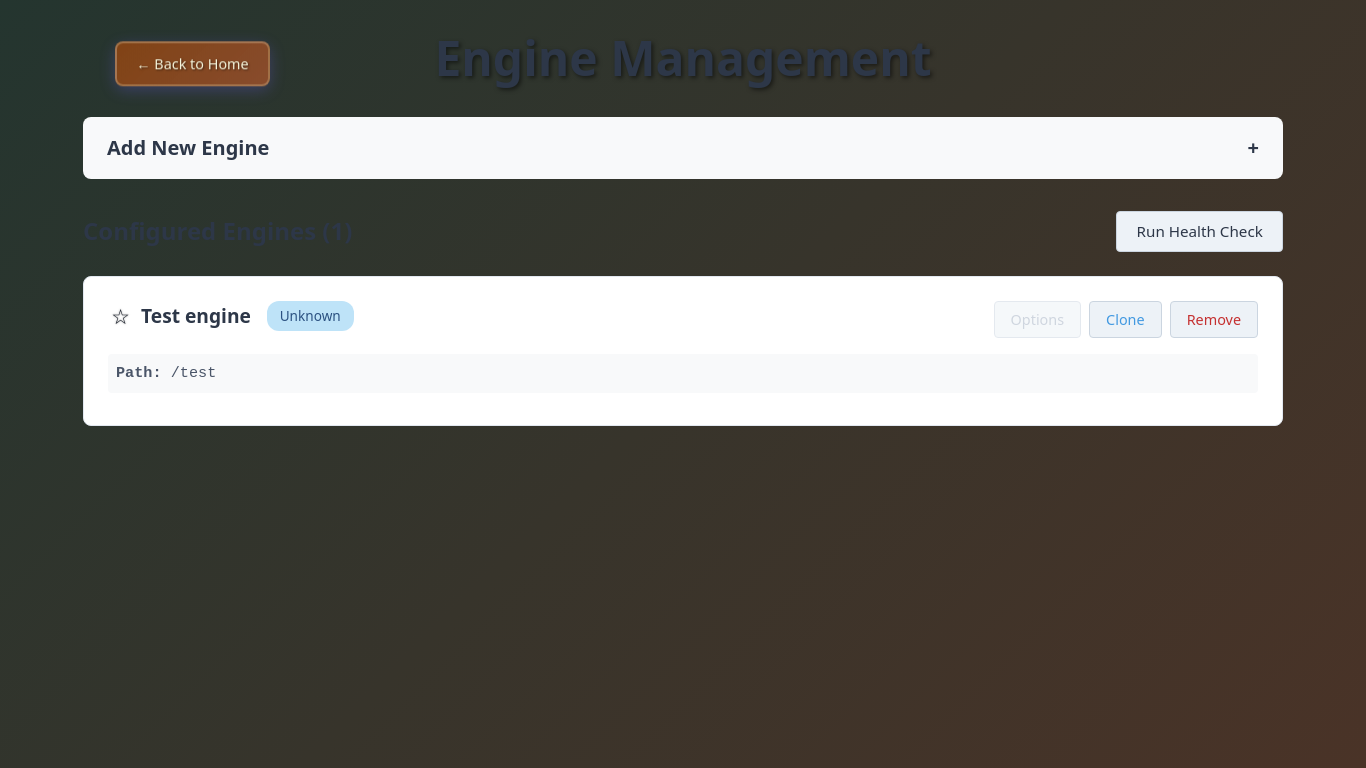
Test: Engine management › keeps Add Engine disabled until both fields are filled
Expected: the heading "☆ Test engine" is shown, [108,302,251,330]
Click the button "Add New Engine +" at point(188, 147), box [83,117,1283,179]
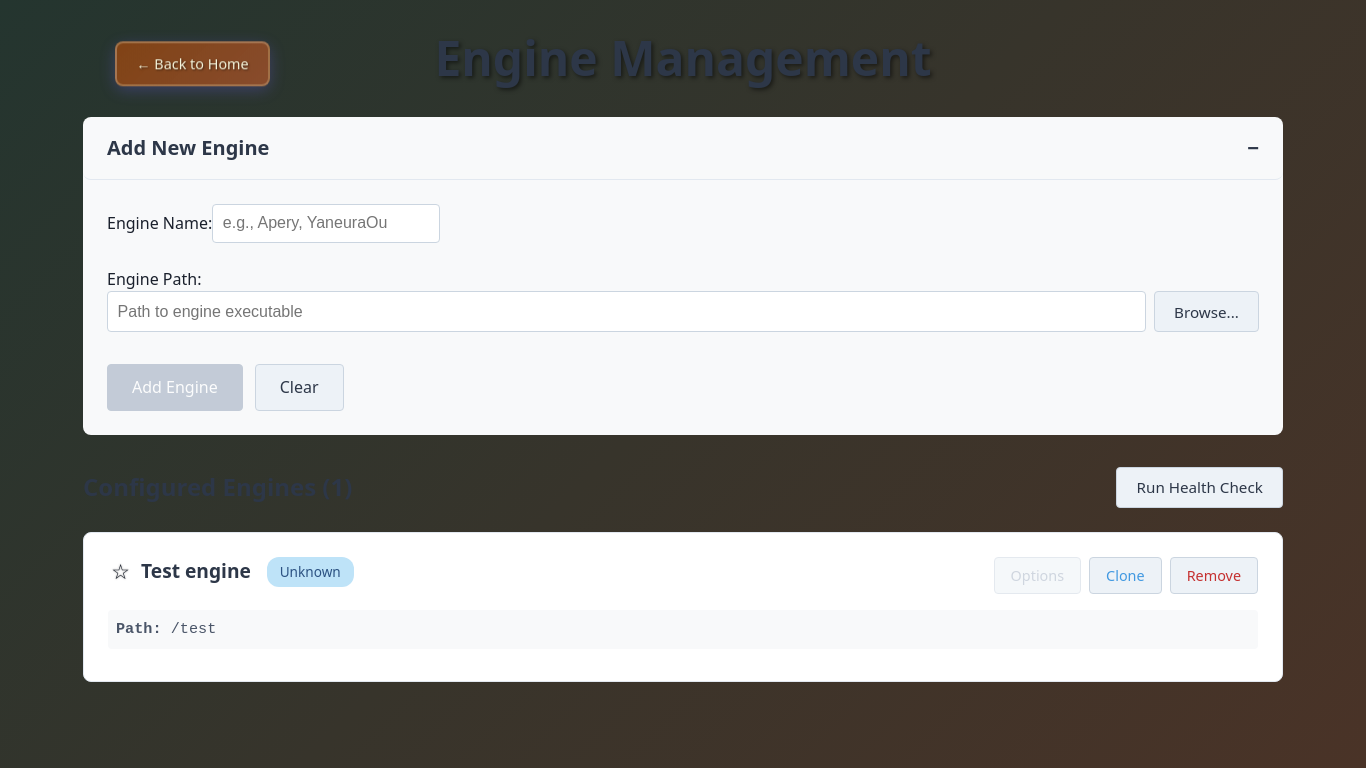
Result: the button "Add Engine" is disabled at [107,364,243,411]
Type "New engine" into the field with placeholder "e.g., Apery, YaneuraOu" at point(326, 223), box [212,204,440,243]
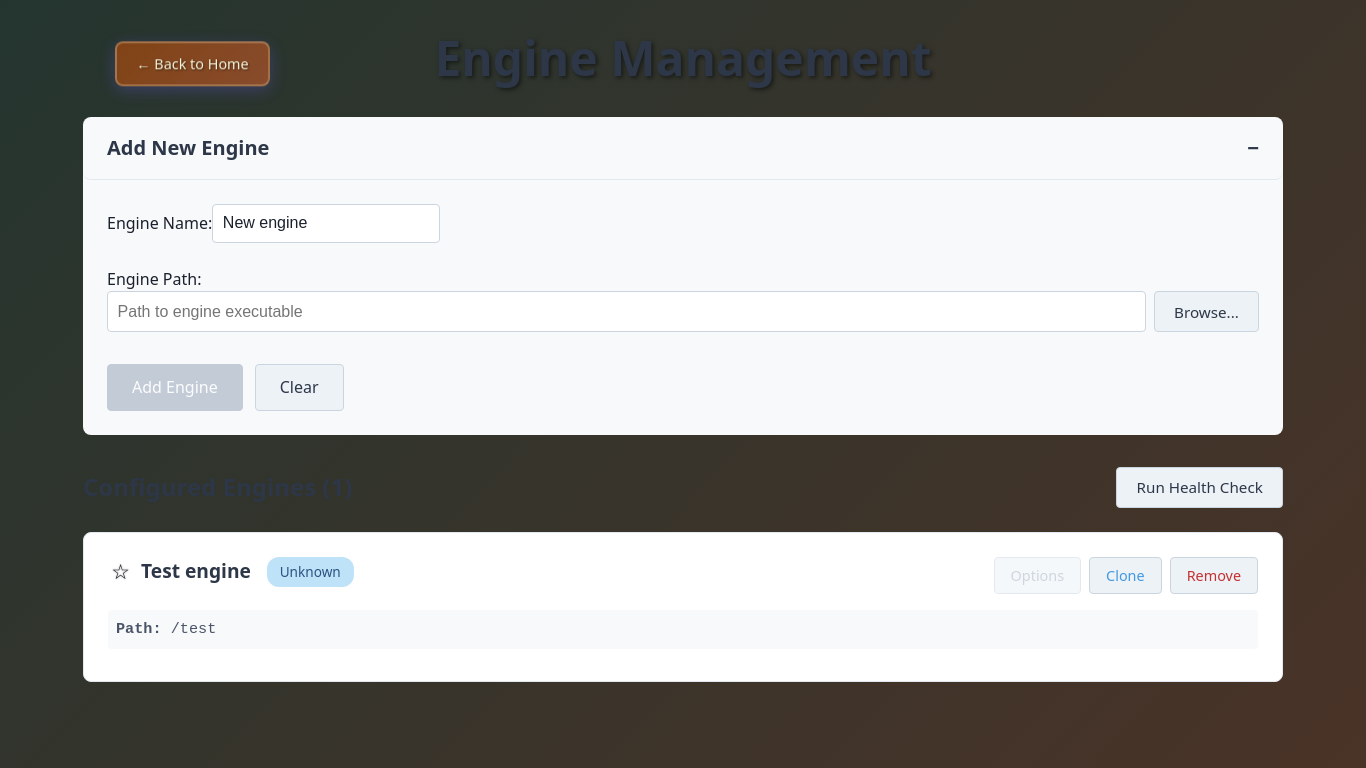
Result: the button "Add Engine" is disabled at [107,364,243,411]
Type "/new" into the field with placeholder "Path to engine executable" at point(626, 312), box [107,291,1146,332]
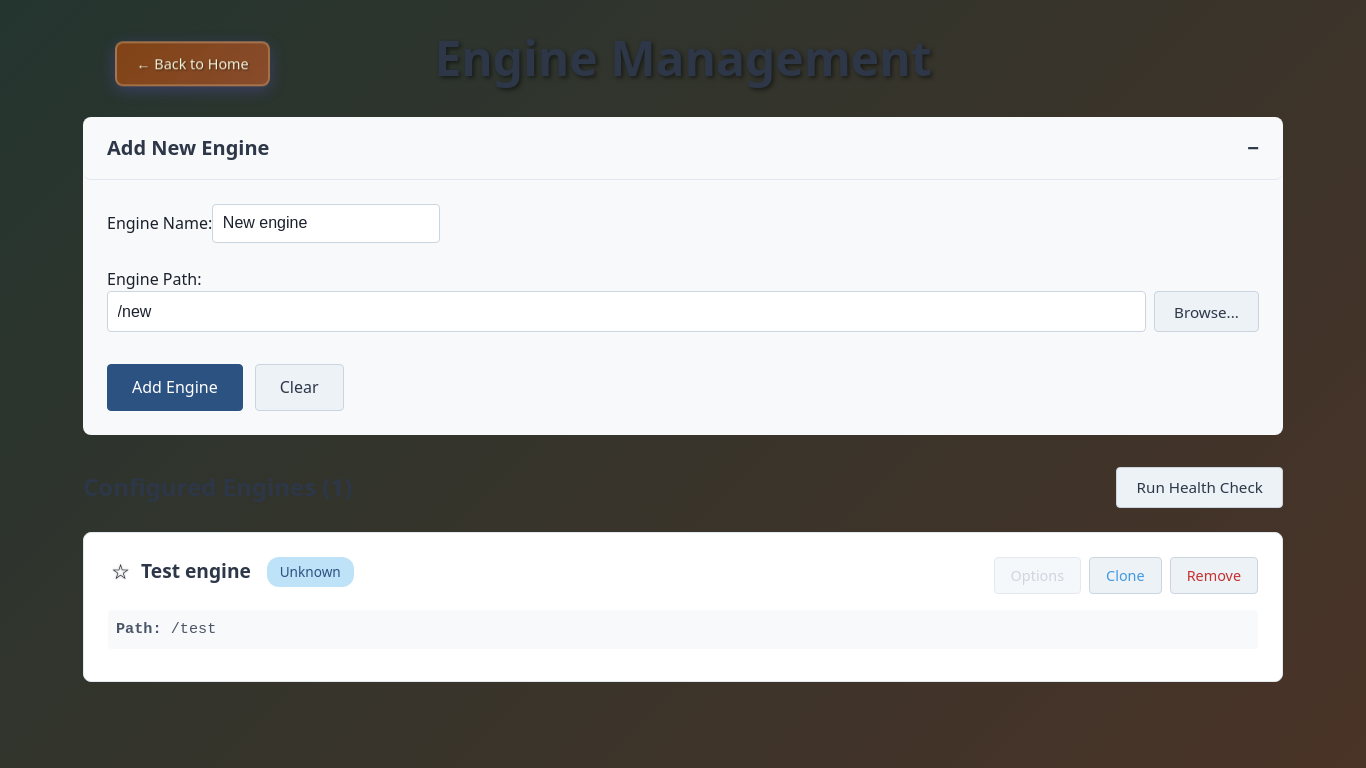
Result: the button "Add Engine" is enabled at [107,364,243,411]
